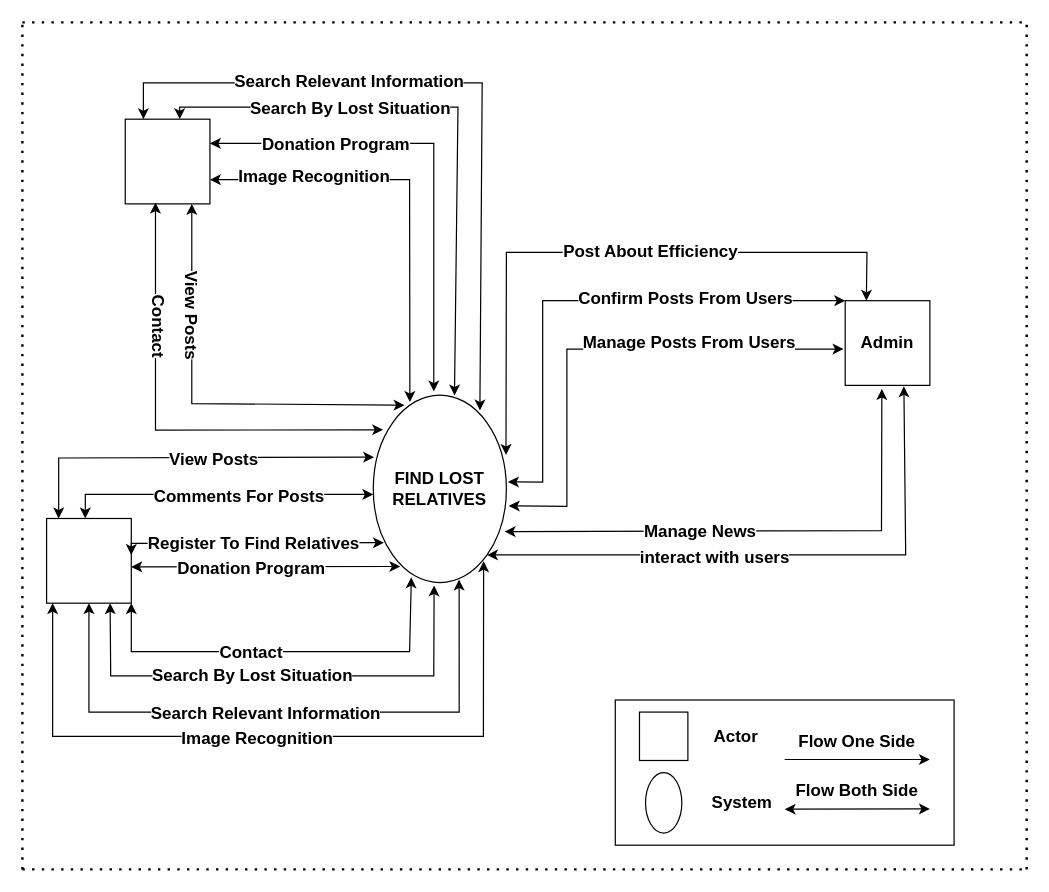
This 1049x892 diagram has some shape labels left out. Each missing label, with the box of its shape:
Guest: (124, 118, 210, 204)
User: (45, 517, 131, 603)
